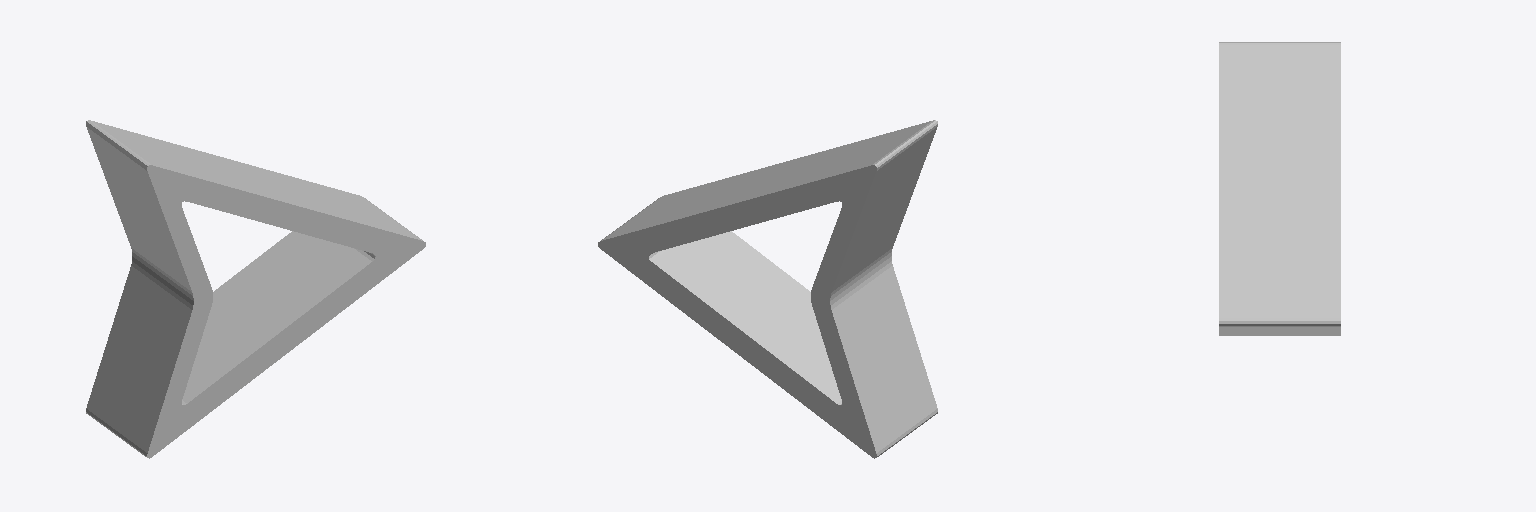
File: Arrow_62.obj
The picture shows the model from 3 angles: view 1: azimuth 30°, elevation 25°; view 2: azimuth 150°, elevation 25°; view 3: azimuth 270°, elevation 25°; orthographic projection.
Visible parts, largest first — view 1: Arrow_62; view 2: Arrow_62; view 3: Arrow_62.
Part boxes in pixels (bbox=[...]): Arrow_62: bbox=[86, 120, 425, 458]; Arrow_62: bbox=[598, 120, 937, 458]; Arrow_62: bbox=[1219, 42, 1340, 335].
Size of the model in its own units: 1.95 by 1.96 by 0.7423.